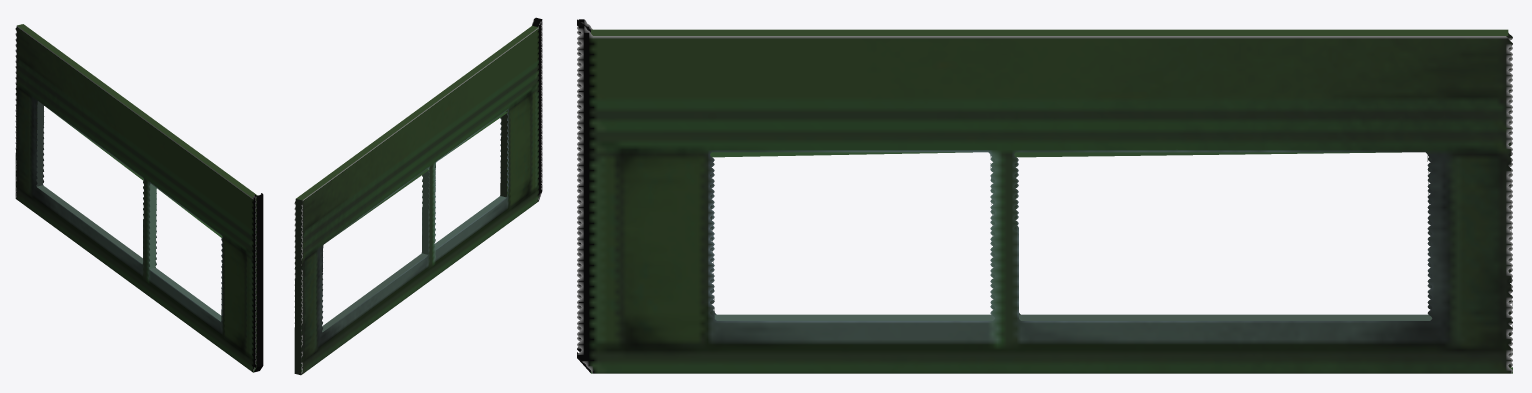
File: pz_native_location_shop_greenes_01_16_frame.obj
3 renders of one model, left to right at view 1: azimuth 30°, elevation 25°; view 2: azimuth 150°, elevation 25°; view 3: azimuth 270°, elevation 25°, orthographic. The views are drawn at different scales.
Parts seen in each view (by area): view 1: pz_native_location_shop_greenes_01_16_frame; view 2: pz_native_location_shop_greenes_01_16_frame; view 3: pz_native_location_shop_greenes_01_16_frame.
Boxes of the visible parts, bbox=[...] form: pz_native_location_shop_greenes_01_16_frame: bbox=[15, 24, 263, 372]; pz_native_location_shop_greenes_01_16_frame: bbox=[294, 17, 542, 375]; pz_native_location_shop_greenes_01_16_frame: bbox=[577, 19, 1512, 373].
Size of the model in its own units: 0.04 by 1.06 by 2.54.
Materials: 1 (1 with a texture image).
